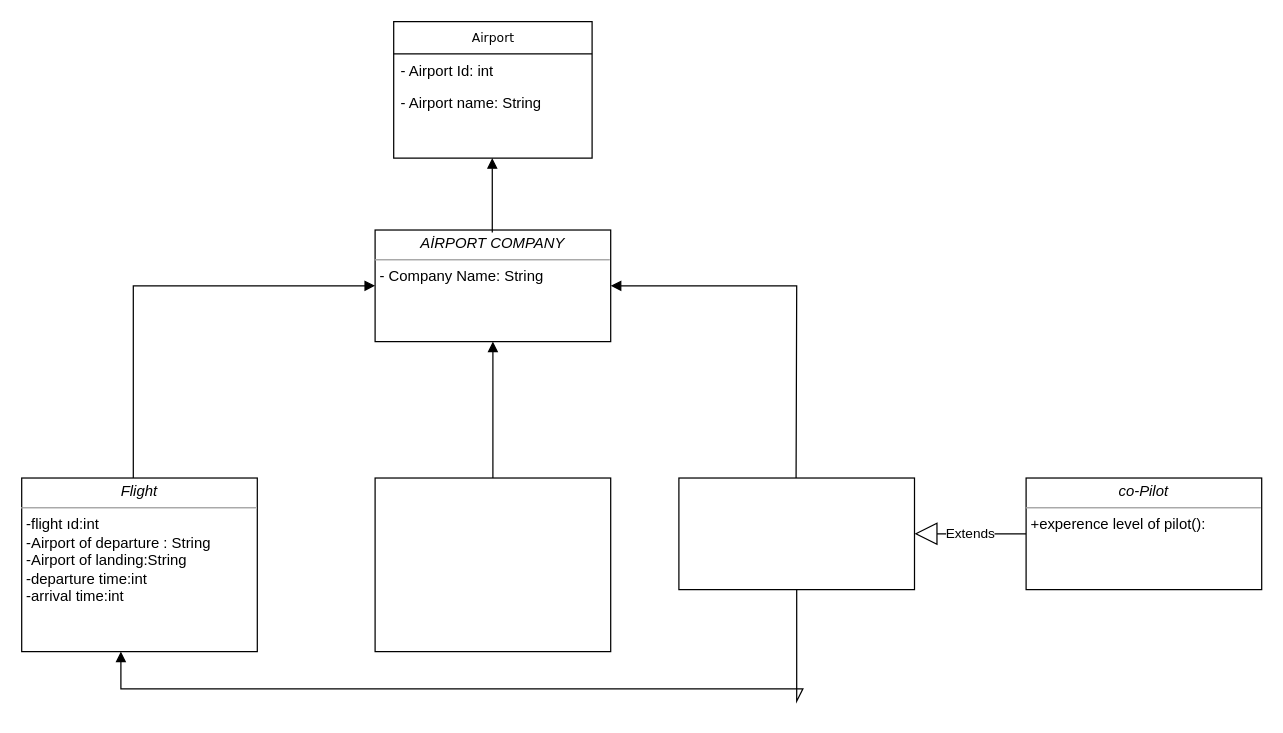
Image size: 1283x733. Some labels were removed from this diagram. Each missing label, with the centre of its shape:
Pilot - Company Name: String: the point at 796,533
Plane -Type of plane: String + planeworking(): boolean +pilot number():int: the point at 492,564
